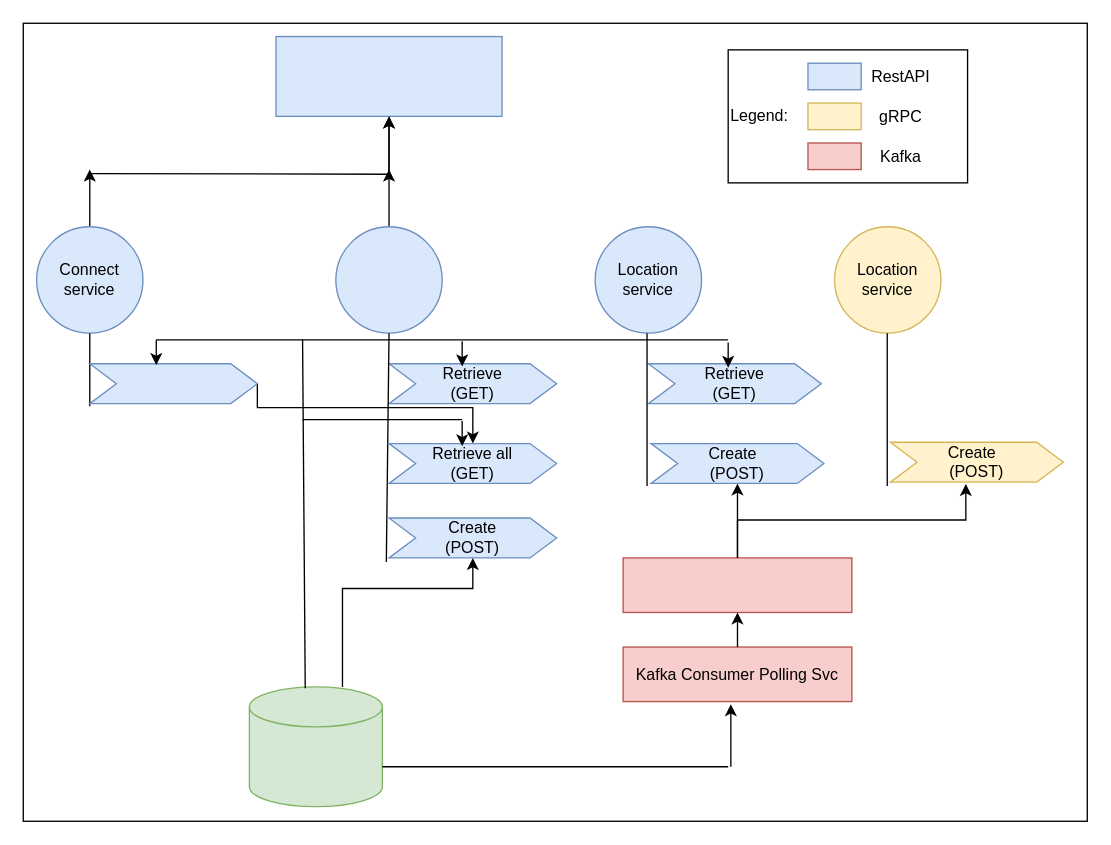
The diagram is 1111 pixels wide and 845 high, and some of its shapes have lost their labels. The shapes that lost their labels are listed below. From the top down, each one's centre as x and y in pixels, then its label:
At point (388, 75): "UdaConnect App (Front End)".
At point (388, 279): "Person service".
At point (172, 383): "Find Contacts (GET)".
At point (737, 584): "Kafka Queue".
At point (315, 746): "PostgresDB service".
